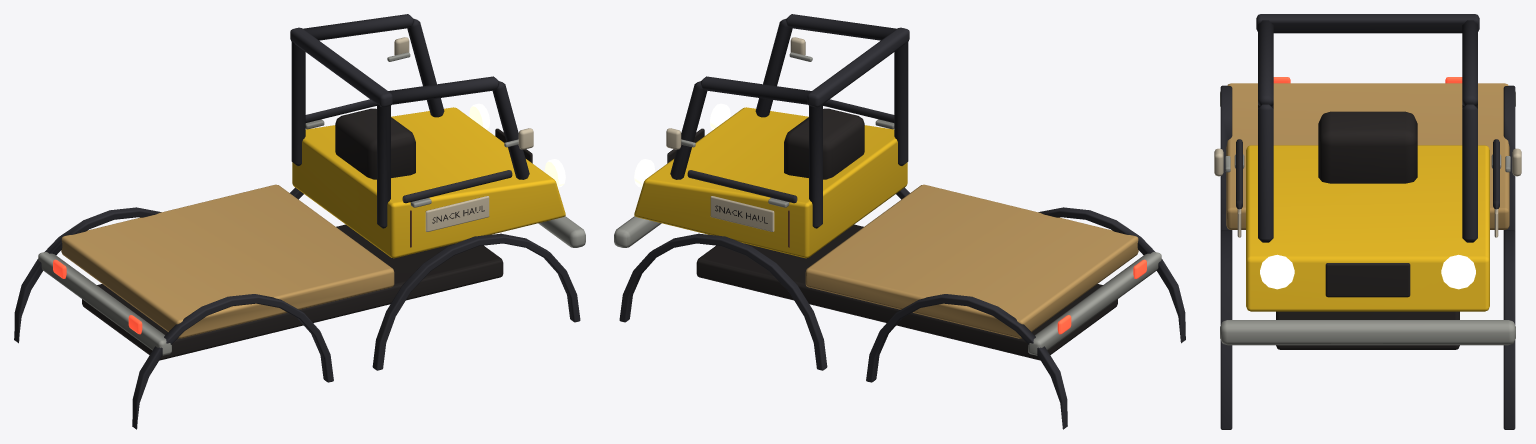
File: truck_buggy.glb
3 renders of one model, left to right at view 1: azimuth 30°, elevation 25°; view 2: azimuth 150°, elevation 25°; view 3: azimuth 270°, elevation 25°, orthographic. The views are drawn at different scales.
Visible parts, largest first — view 1: ladder frame, round lamp; view 2: ladder frame, round lamp; view 3: ladder frame, round lamp.
Part boxes in pixels (x1=…): ladder frame: x1=14, y1=14, x2=585, y2=429; round lamp: x1=469, y1=103, x2=565, y2=187; ladder frame: x1=614, y1=14, x2=1185, y2=429; round lamp: x1=634, y1=103, x2=730, y2=187; ladder frame: x1=1214, y1=14, x2=1521, y2=429; round lamp: x1=1260, y1=254, x2=1475, y2=289.
Bounding box in the file's own units: 3.97 × 2.18 × 1.96.
